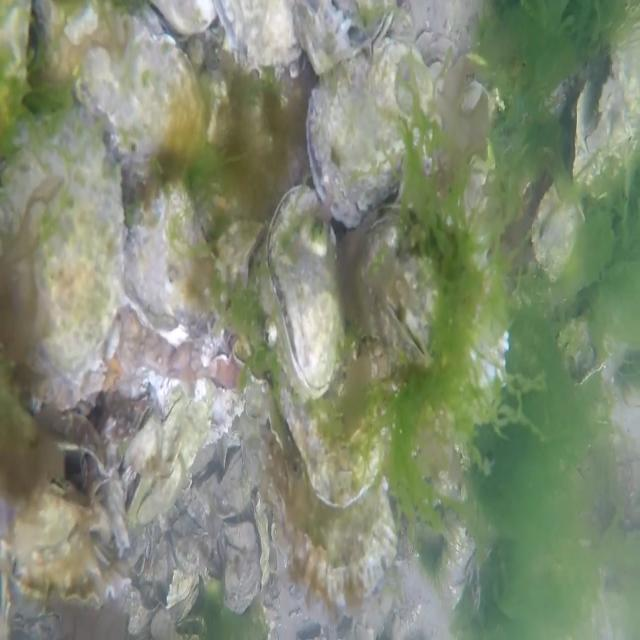Oyster-Closed: (0, 106, 124, 394), (306, 14, 434, 228), (267, 399, 397, 609), (37, 0, 203, 161), (260, 185, 342, 398), (279, 356, 385, 506), (532, 186, 582, 280)
Oyster-Indeterminate: (338, 206, 438, 366), (124, 182, 218, 337), (291, 0, 387, 74), (214, 0, 300, 67)
